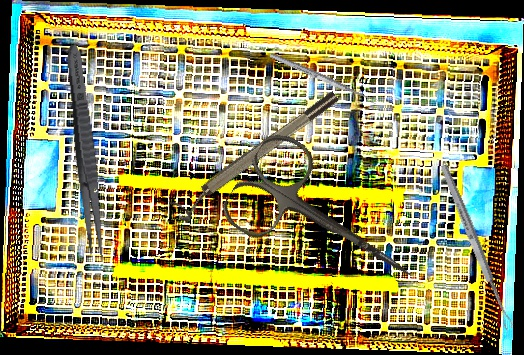Dressing Forceps: (61, 43, 111, 264)
Fixation Ring: (167, 87, 347, 225)
Iris Scissors: (216, 125, 438, 322)
Surgical Spoon: (438, 163, 515, 331), (268, 51, 379, 106)
